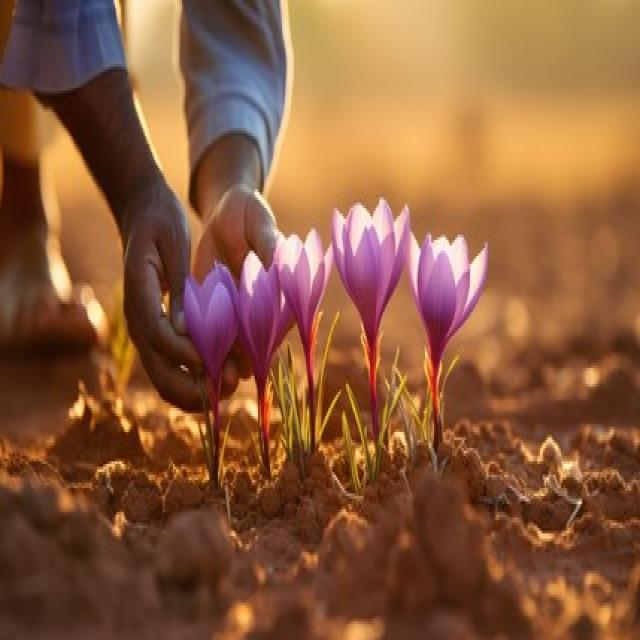saffron open: (334, 199, 409, 442), (409, 235, 489, 451), (274, 230, 332, 451), (238, 252, 294, 480), (184, 266, 239, 467)
